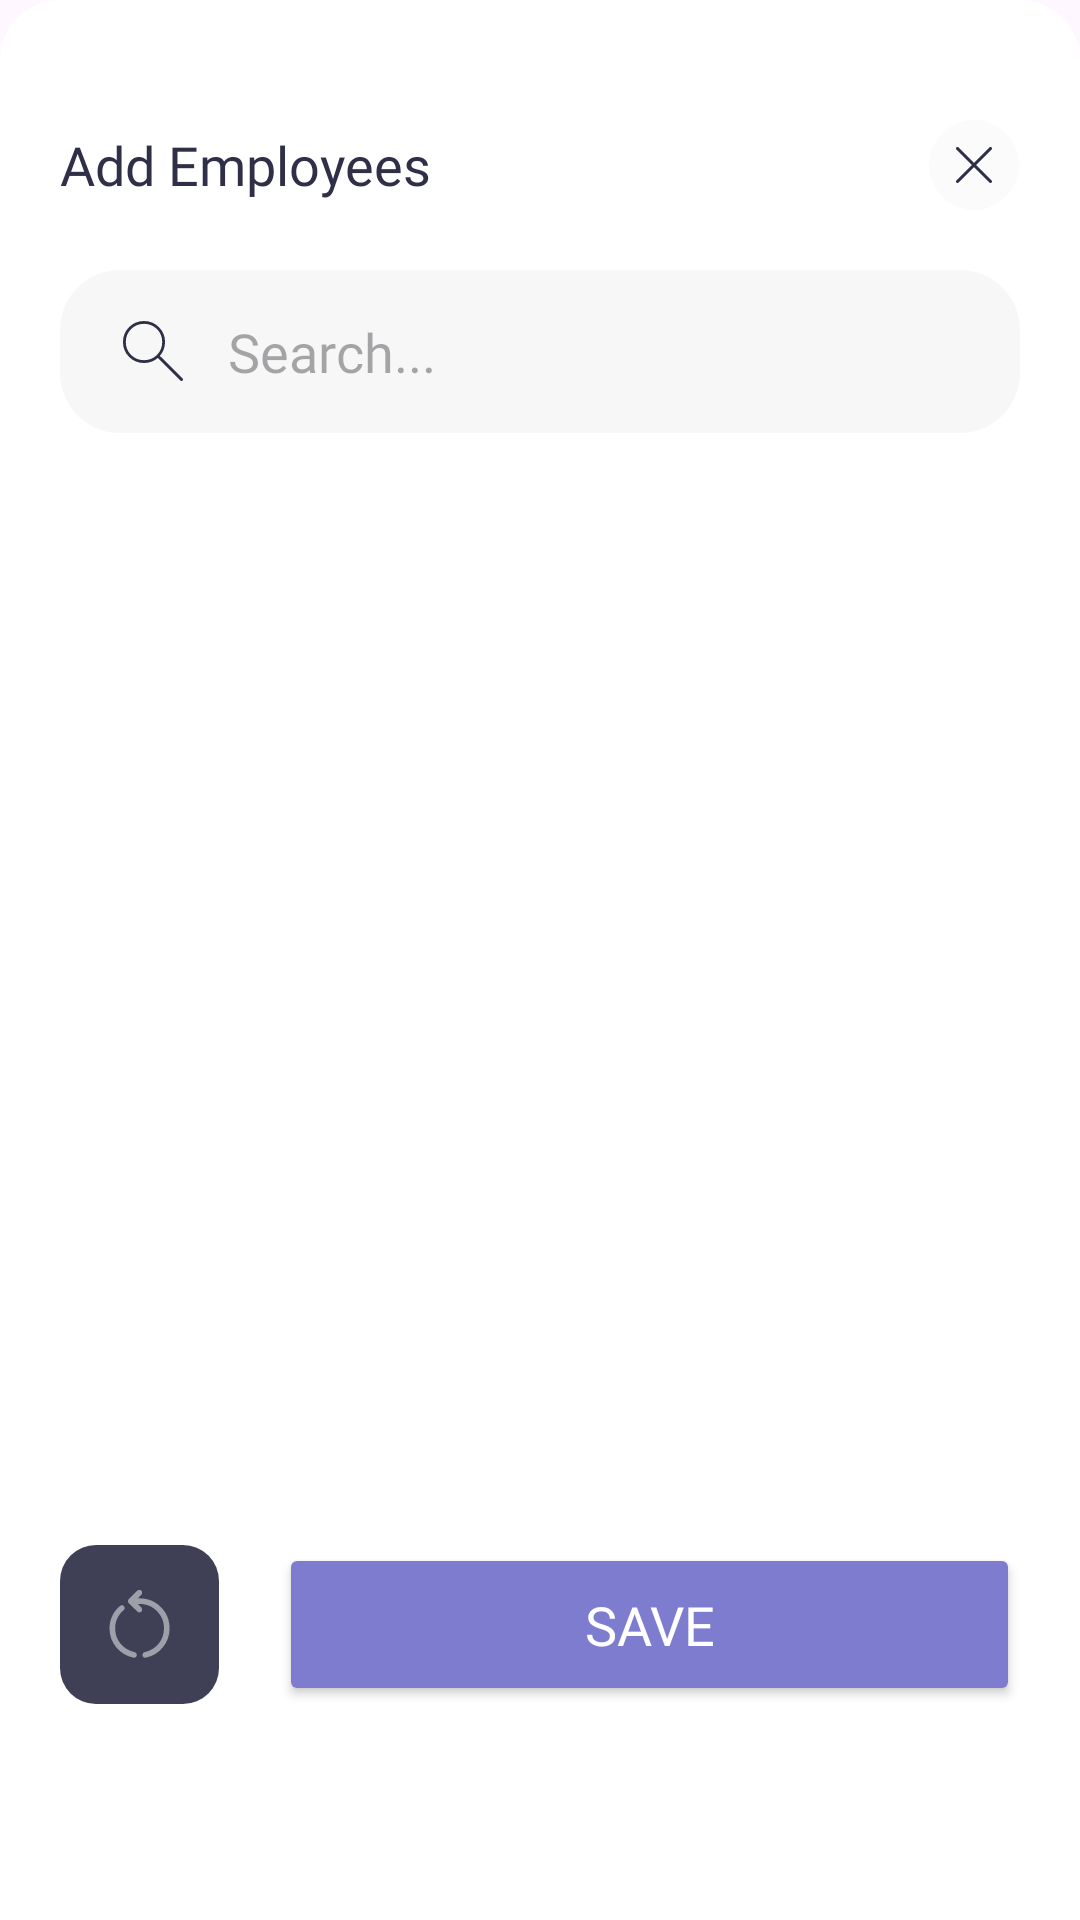

Named icons in this screenshot (1080 × 1920) and their centers, (x=x, y=y):
refresh: (x=139, y=1624)
